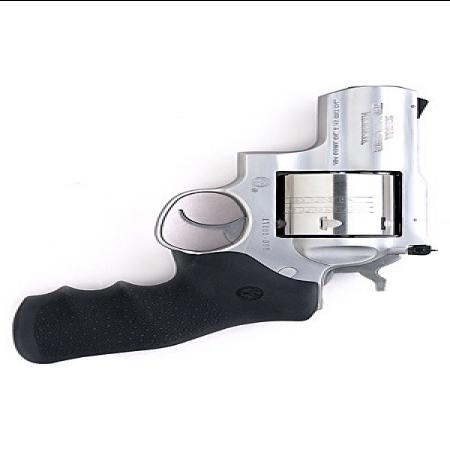Pistol: (9, 84, 435, 370)
